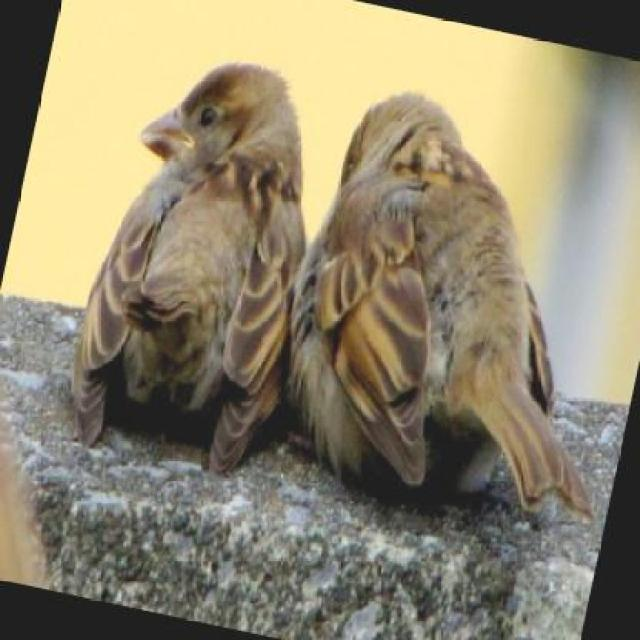sparrow: (249, 68, 640, 538), (50, 35, 345, 487)
